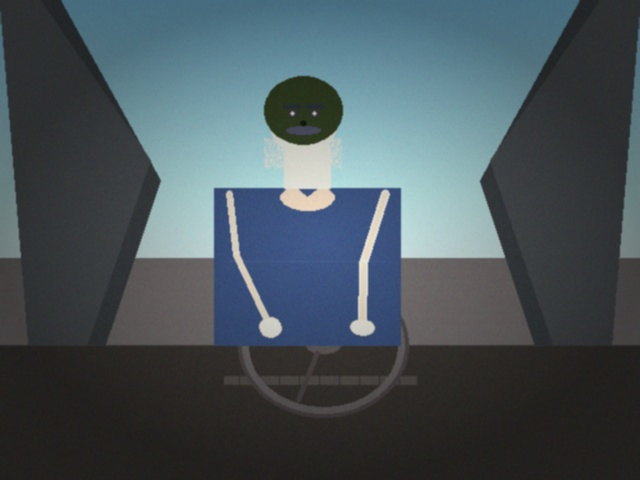normal_driving: (123, 181, 323, 345)
